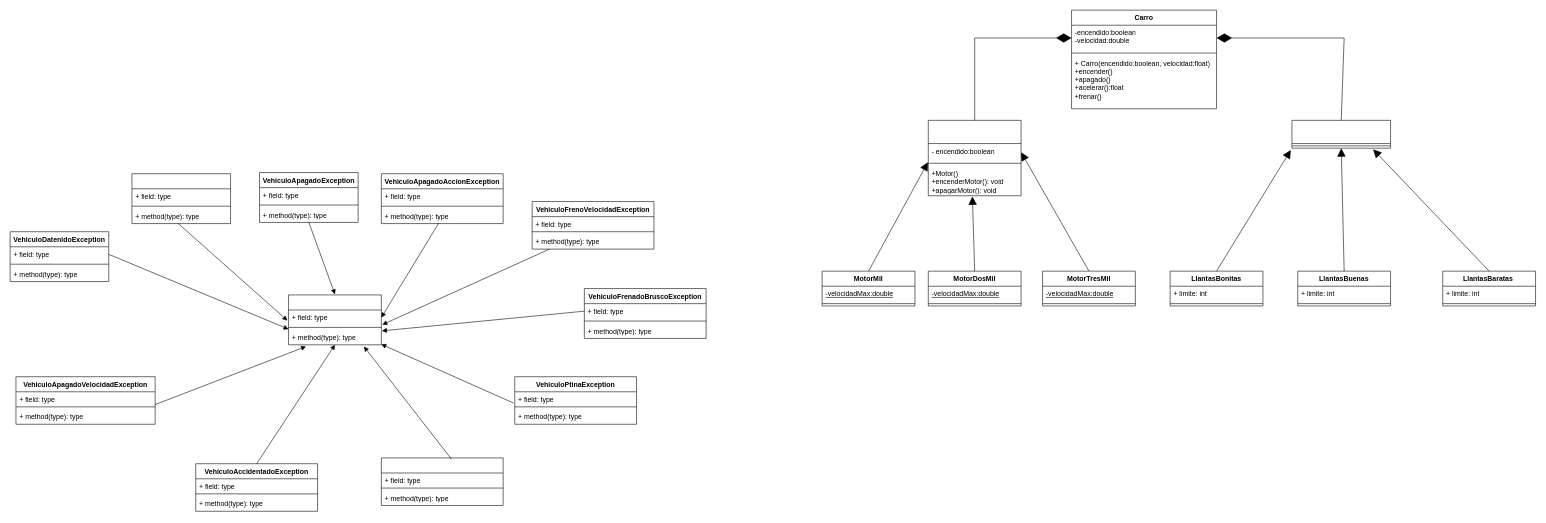
The diagram is 1546 pixels wide and 523 high, and some of its shapes have lost their labels. Here are the shapes that lost their labels. From the top down, the box of each, then its label:
(1291, 120, 1391, 148): <<abstrac>> Llantas
(928, 120, 1021, 196): <<abstract>> Motor
(131, 173, 231, 224): VehiculoEncendidoException
(288, 294, 381, 345): RuntimeException
(381, 457, 503, 505): VehiculoAceleradoException
